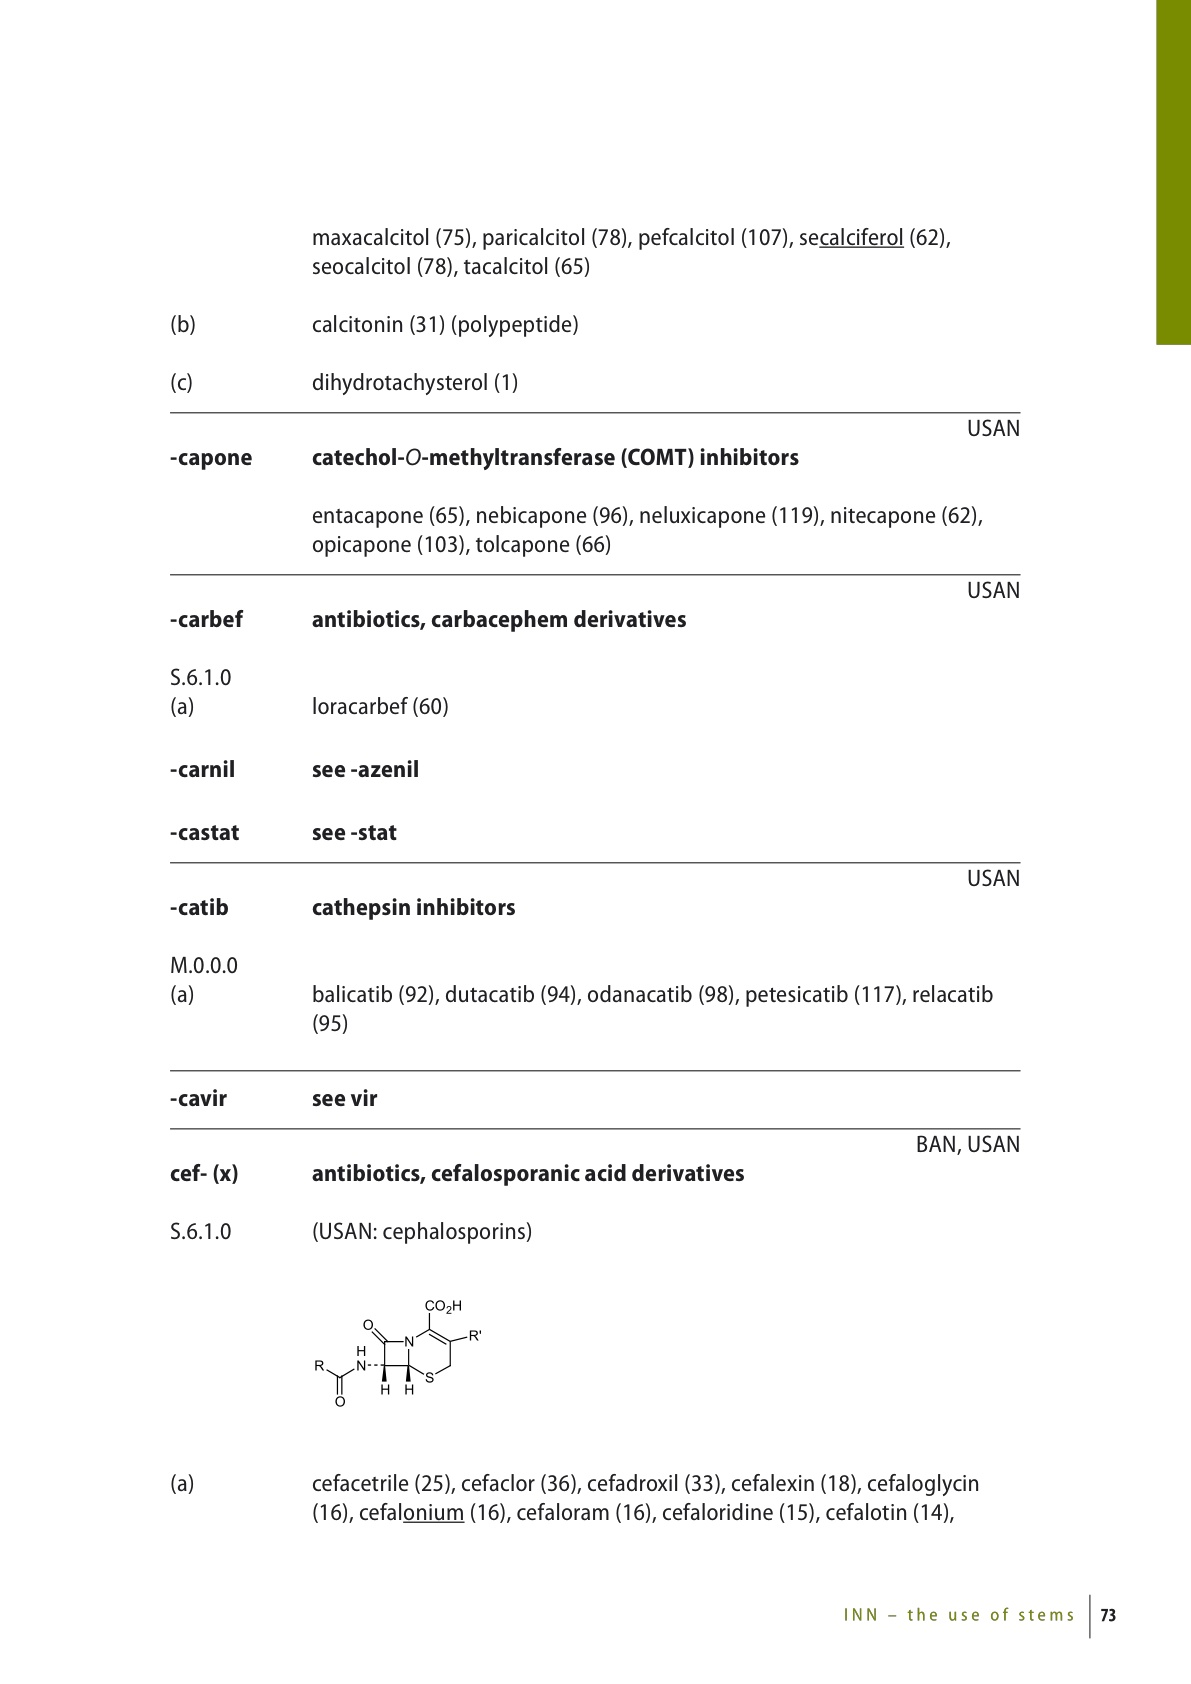partial_lined: (165, 219, 1023, 1245)
